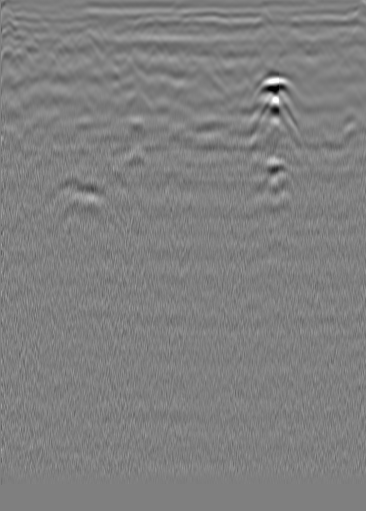가스: (252, 158, 294, 199)
상수: (0, 47, 20, 67)
오수: (306, 34, 326, 54)
우수: (147, 38, 167, 58)
